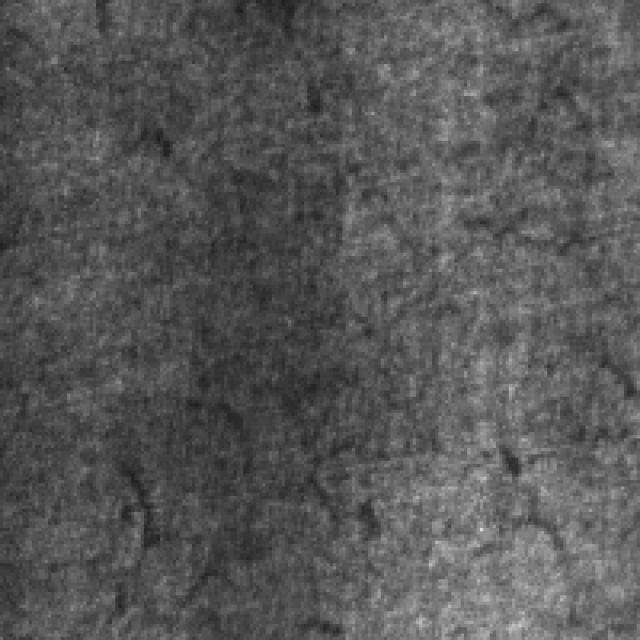crazing: (93, 384, 253, 630), (454, 77, 598, 259), (452, 428, 582, 618)
